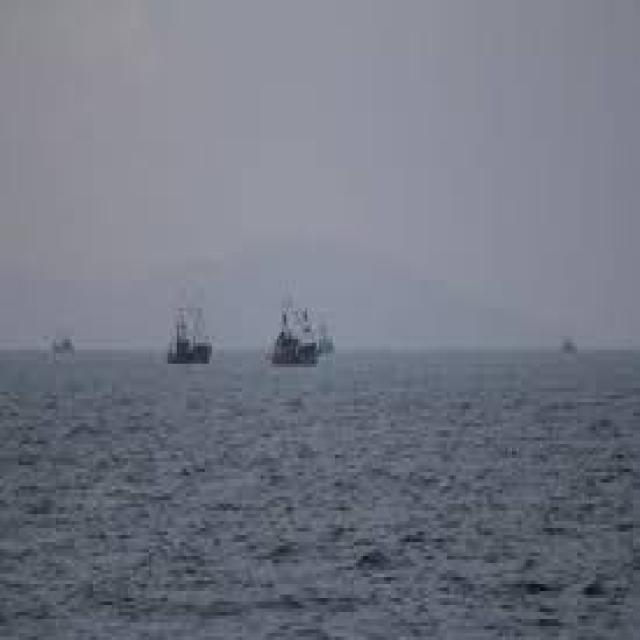fishing boat: (257, 297, 328, 370), (162, 301, 216, 357)
